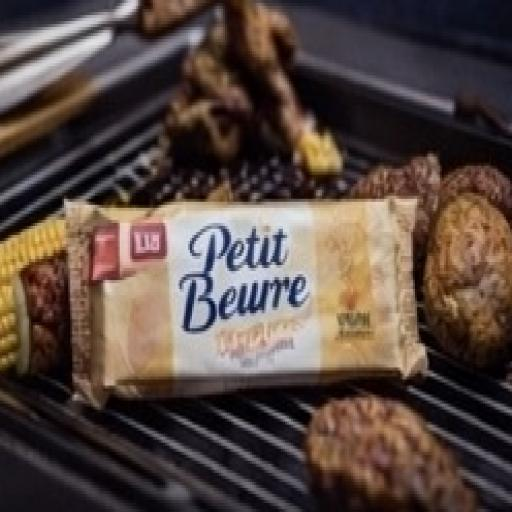petit_beurre: (33, 152, 497, 449)
